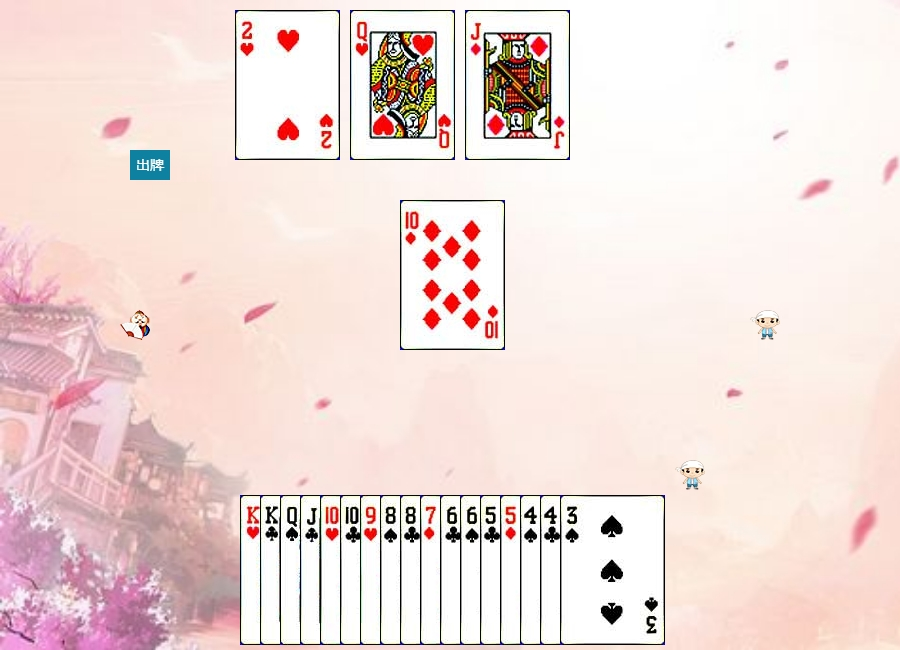10~1: (400, 200, 505, 350)
10~2: (340, 495, 445, 645)
10~3: (320, 495, 425, 645)
11~1: (465, 10, 570, 160)
11~2: (300, 495, 405, 645)
12~3: (350, 10, 455, 160)
12~4: (280, 495, 385, 645)
13~2: (260, 495, 365, 645)
13~3: (240, 495, 345, 645)
15~3: (235, 10, 340, 160)
3~4: (560, 495, 665, 645)
4~2: (540, 495, 645, 645)
4~4: (520, 495, 625, 645)
5~1: (500, 495, 605, 645)
5~2: (480, 495, 585, 645)
6~2: (440, 495, 545, 645)
6~4: (460, 495, 565, 645)
7~1: (420, 495, 525, 645)
8~2: (400, 495, 505, 645)
8~4: (380, 495, 485, 645)
9~3: (360, 495, 465, 645)
